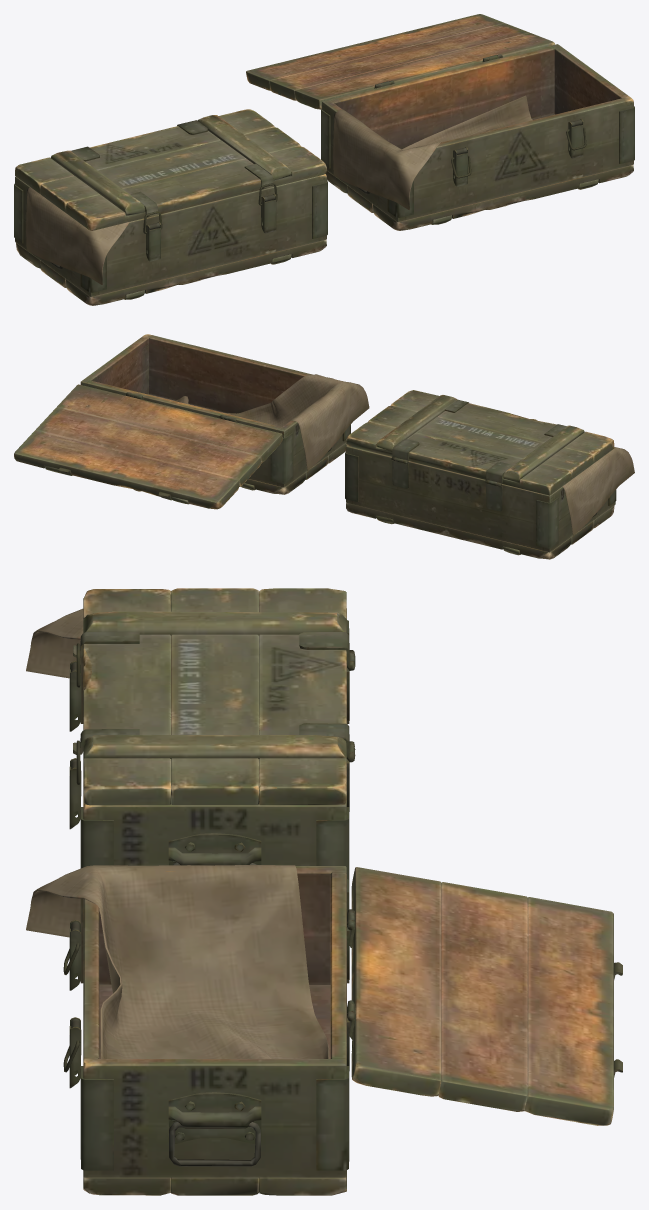
Rendered from old_military_crate.glb.
The picture shows the model from 3 angles, top to bottom: view 1: azimuth 30°, elevation 25°; view 2: azimuth 150°, elevation 25°; view 3: azimuth 270°, elevation 25°; orthographic projection. The views are drawn at different scales.
Visible parts, largest first — view 1: old_military_crate_b, old_military_crate_lid_a, old_military_crate_a, old_military_crate_lid_b, old_military_crate_cloth_b, old_military_crate_cloth_a, old_military_crate_latch_a, old_military_crate_latch_b; view 2: old_military_crate_lid_b, old_military_crate_lid_a, old_military_crate_a, old_military_crate_b, old_military_crate_cloth_b, old_military_crate_cloth_a; view 3: old_military_crate_lid_a, old_military_crate_lid_b, old_military_crate_b, old_military_crate_cloth_b, old_military_crate_a, old_military_crate_cloth_a, old_military_crate_latch_b, old_military_crate_latch_a.
Part boxes in pixels (x1,y1,x2,y2): old_military_crate_b: (321, 44, 634, 230); old_military_crate_lid_a: (15, 109, 326, 230); old_military_crate_a: (14, 174, 327, 305); old_military_crate_lid_b: (246, 14, 554, 109); old_military_crate_cloth_b: (333, 95, 532, 209); old_military_crate_cloth_a: (26, 187, 129, 284); old_military_crate_latch_a: (146, 194, 276, 261); old_military_crate_latch_b: (453, 119, 583, 186); old_military_crate_lid_b: (14, 384, 282, 509); old_military_crate_lid_a: (346, 390, 614, 495); old_military_crate_a: (345, 446, 616, 559); old_military_crate_b: (80, 334, 350, 494); old_military_crate_cloth_b: (174, 374, 369, 470); old_military_crate_cloth_a: (562, 447, 634, 535); old_military_crate_lid_a: (73, 588, 355, 805); old_military_crate_lid_b: (347, 867, 622, 1125); old_military_crate_b: (80, 866, 355, 1195); old_military_crate_cloth_b: (26, 865, 329, 1058); old_military_crate_a: (80, 608, 355, 886); old_military_crate_cloth_a: (26, 608, 83, 678); old_military_crate_latch_b: (69, 920, 81, 1088); old_military_crate_latch_a: (69, 661, 81, 829).
Bounding box in the file's own units: 1.82 × 0.3009 × 0.9743.
1 material, 1 textured.
